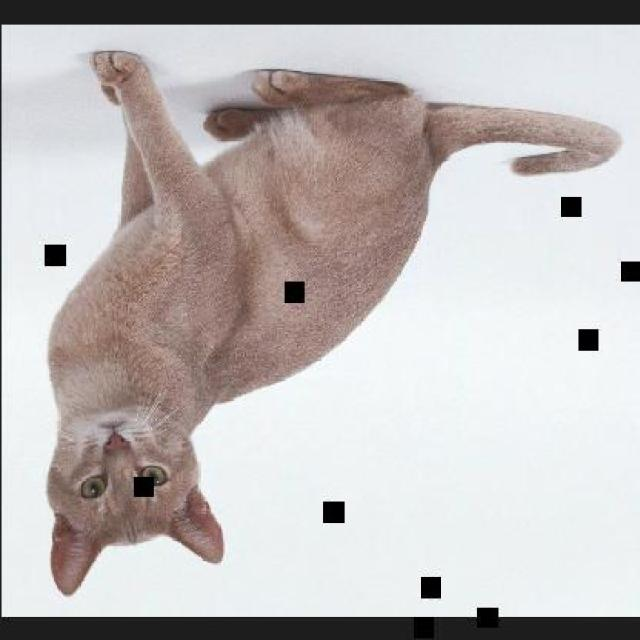unauthorized: (43, 48, 622, 595)
